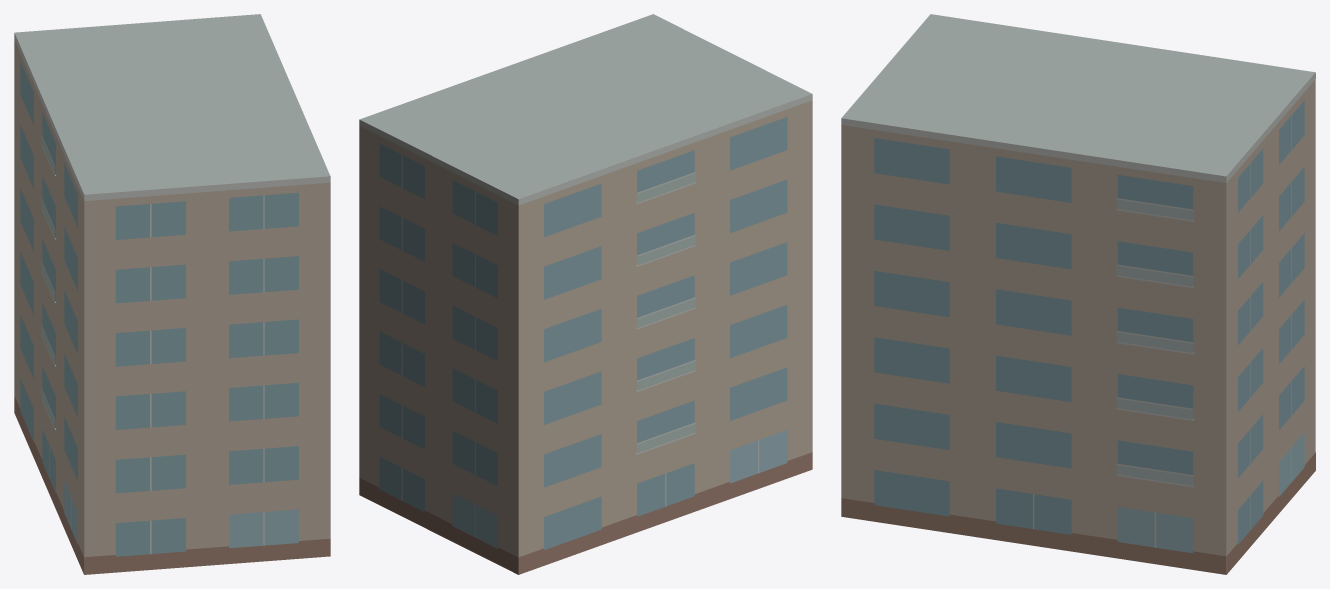
File: survey-upis-32952243.glb
3 renders of one model, left to right at view 1: azimuth 30°, elevation 25°; view 2: azimuth 150°, elevation 25°; view 3: azimuth 270°, elevation 25°, orthographic. The views are drawn at different scales.
Visible parts, largest first — view 1: survey-upis-32952243.tmp; view 2: survey-upis-32952243.tmp; view 3: survey-upis-32952243.tmp.
Boxes of the visible parts, bbox=[...] form: survey-upis-32952243.tmp: bbox=[14, 14, 330, 574]; survey-upis-32952243.tmp: bbox=[359, 14, 812, 574]; survey-upis-32952243.tmp: bbox=[841, 14, 1315, 574].
Size of the model in its own units: 12.73 by 14.55 by 15.71.
